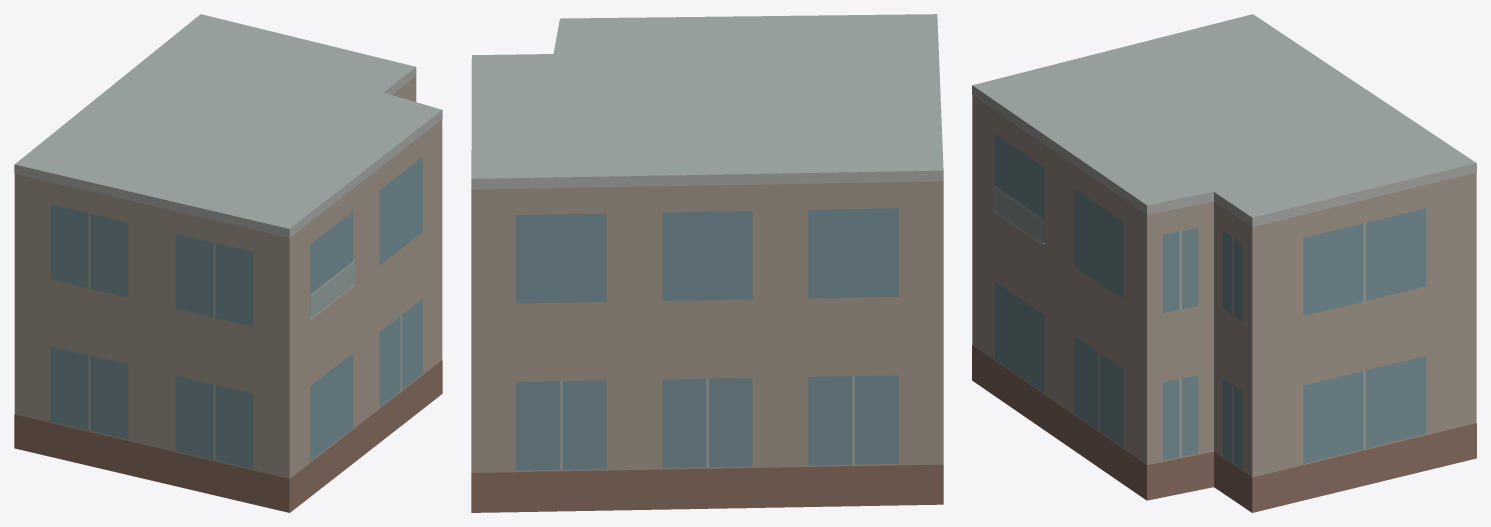
The model's file is survey-upis-32598541.glb.
3 renders of one model, left to right at view 1: azimuth 30°, elevation 25°; view 2: azimuth 150°, elevation 25°; view 3: azimuth 270°, elevation 25°, orthographic. The views are drawn at different scales.
Parts seen in each view (by area): view 1: survey-upis-32598541.tmp; view 2: survey-upis-32598541.tmp; view 3: survey-upis-32598541.tmp.
Boxes of the visible parts, x1,y1,x2,y2 form: survey-upis-32598541.tmp: (14,14,442,512); survey-upis-32598541.tmp: (471,14,943,512); survey-upis-32598541.tmp: (972,14,1476,512).
Size of the model in its own units: 11.26 by 7.6 by 11.78.
